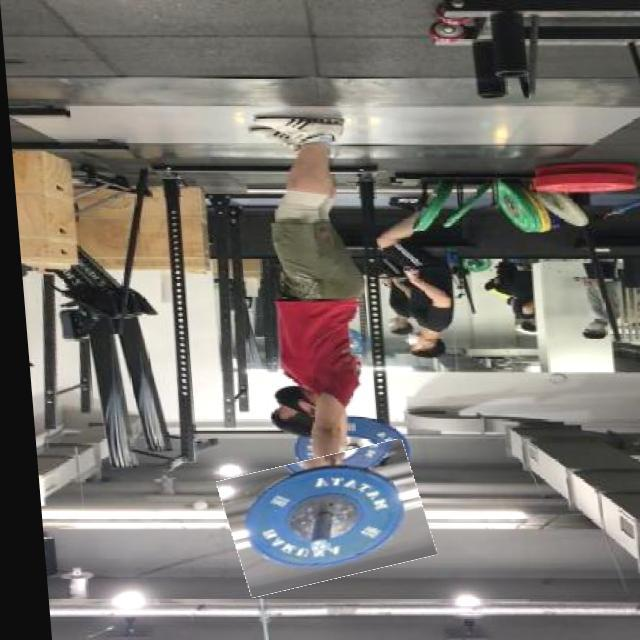barbell: (212, 450, 425, 589)
